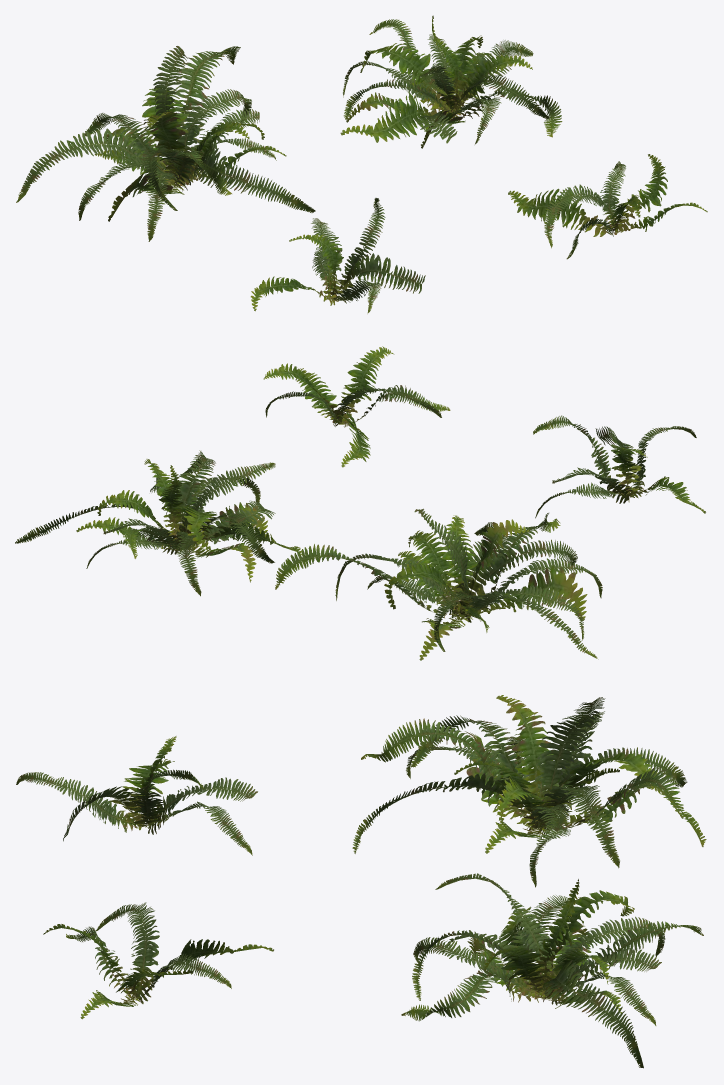
The model's file is fern_02.glb.
3 renders of one model, top to bottom at view 1: azimuth 30°, elevation 25°; view 2: azimuth 150°, elevation 25°; view 3: azimuth 270°, elevation 25°, orthographic. The views are drawn at different scales.
Parts seen in each view (by area): view 1: fern_02_b, fern_02_c, fern_02_a, fern_02_d; view 2: fern_02_b, fern_02_c, fern_02_d, fern_02_a; view 3: fern_02_b, fern_02_c, fern_02_a, fern_02_d.
Part boxes in pixels (bbox=[...]): fern_02_b: bbox=[16, 46, 315, 241]; fern_02_c: bbox=[340, 15, 562, 148]; fern_02_a: bbox=[250, 198, 425, 313]; fern_02_d: bbox=[508, 154, 707, 259]; fern_02_b: bbox=[275, 508, 602, 660]; fern_02_c: bbox=[15, 450, 302, 596]; fern_02_d: bbox=[263, 346, 450, 467]; fern_02_a: bbox=[533, 415, 705, 518]; fern_02_b: bbox=[352, 695, 706, 887]; fern_02_c: bbox=[401, 873, 703, 1068]; fern_02_a: bbox=[16, 736, 257, 855]; fern_02_d: bbox=[43, 902, 273, 1019].
Size of the model in its own units: 1.97 by 0.4277 by 1.72.
1 material, 1 textured.
